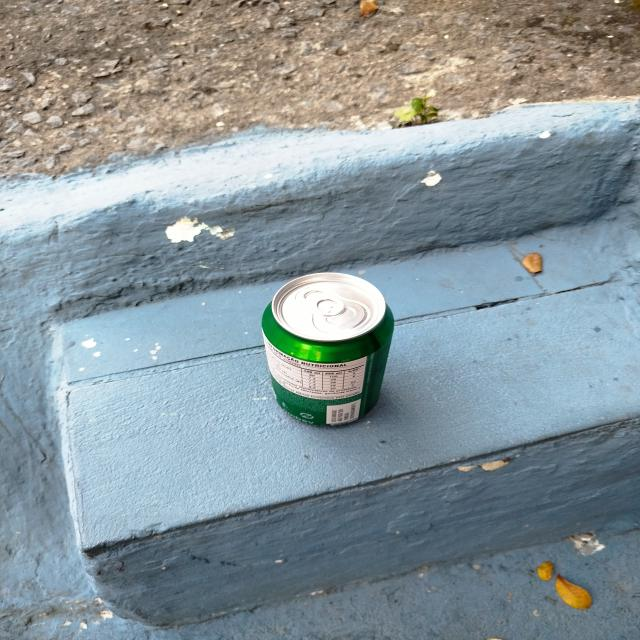Guarana: (261, 271, 394, 425)
